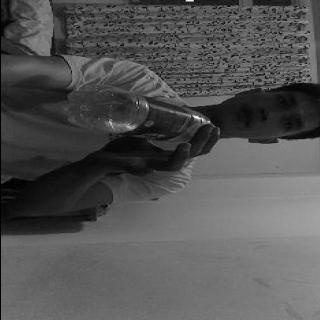plastic_bottles: (72, 83, 218, 150)
